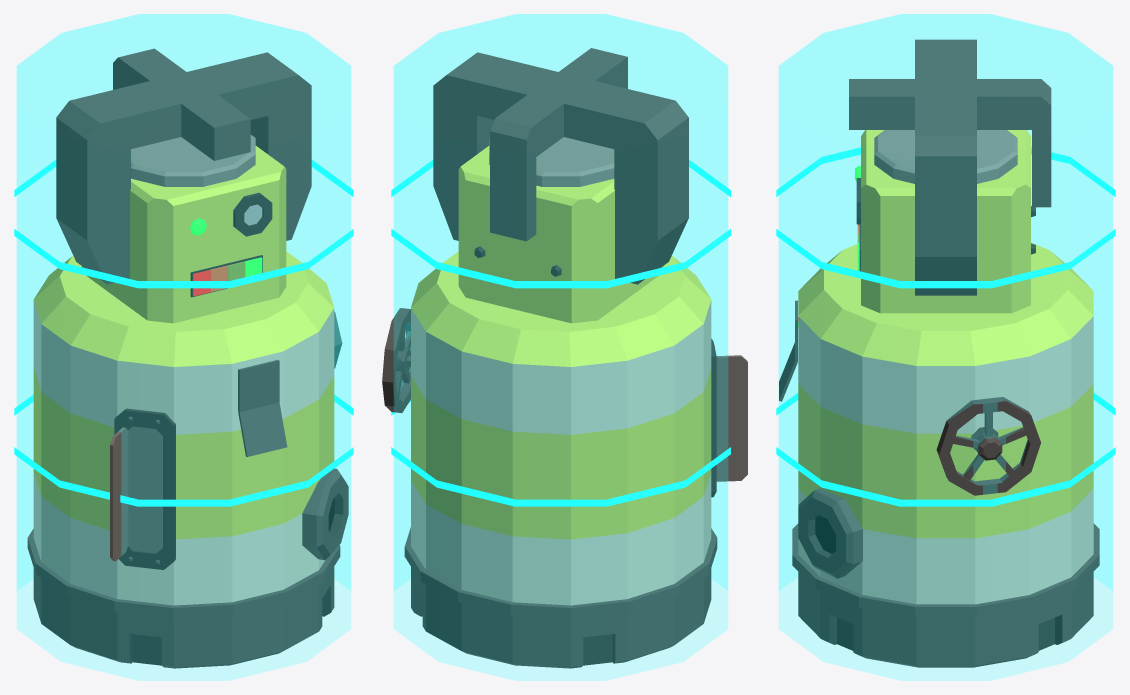
File: canister_double_stripe.glb
The picture shows the model from 3 angles, left to right: view 1: azimuth 30°, elevation 25°; view 2: azimuth 150°, elevation 25°; view 3: azimuth 270°, elevation 25°; orthographic projection.
Parts seen in each view (by area): view 1: Canister_Shield, Canister_Body, Canister_ShieldBands, Canister_TankDoor, Canister_TankDoorOpen, Canister_CellHatchOpen, Canister_CellHatch; view 2: Canister_Shield, Canister_Body, Canister_ShieldBands, Canister_TankDoorOpen, Canister_ValveWheel; view 3: Canister_Shield, Canister_Body, Canister_ShieldBands, Canister_ValveWheel.
Boxes of the visible parts, bbox=[...] form: Canister_Shield: bbox=[17, 14, 350, 680]; Canister_Body: bbox=[27, 48, 348, 668]; Canister_ShieldBands: bbox=[14, 160, 353, 506]; Canister_TankDoor: bbox=[128, 426, 162, 553]; Canister_TankDoorOpen: bbox=[110, 427, 128, 561]; Canister_CellHatchOpen: bbox=[238, 402, 287, 456]; Canister_CellHatch: bbox=[238, 360, 279, 412]; Canister_Shield: bbox=[394, 14, 727, 680]; Canister_Body: bbox=[404, 48, 717, 668]; Canister_ShieldBands: bbox=[391, 160, 730, 506]; Canister_TankDoorOpen: bbox=[716, 355, 747, 481]; Canister_ValveWheel: bbox=[382, 308, 410, 412]; Canister_Shield: bbox=[779, 14, 1112, 680]; Canister_Body: bbox=[792, 39, 1099, 667]; Canister_ShieldBands: bbox=[776, 147, 1115, 506]; Canister_ValveWheel: bbox=[936, 397, 1040, 495].
Size of the model in its own units: 0.5166 by 0.8887 by 0.5028.
